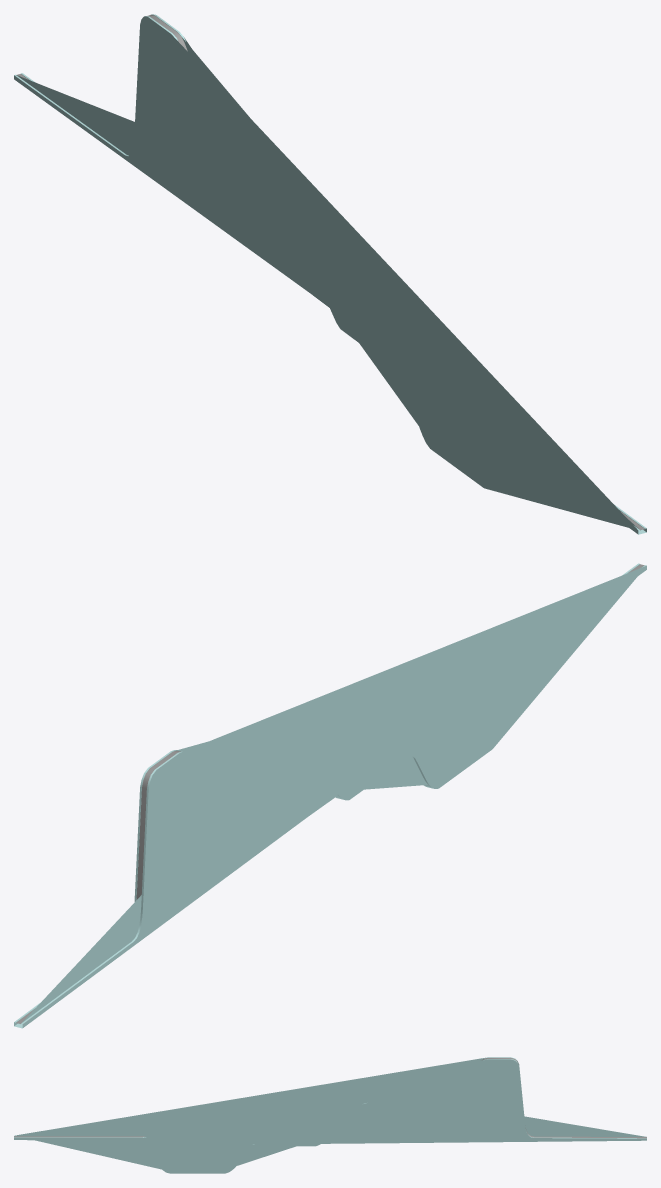
The model's file is road3.fbx.
The picture shows the model from 3 angles, top to bottom: view 1: azimuth 30°, elevation 25°; view 2: azimuth 150°, elevation 25°; view 3: azimuth 270°, elevation 25°; orthographic projection. The views are drawn at different scales.
Visible parts, largest first — view 1: Cube.029; view 2: Cube.029; view 3: Cube.029.
Part boxes in pixels (x1,y1,x2,y2): Cube.029: (14, 14, 646, 534); Cube.029: (14, 563, 646, 1028); Cube.029: (14, 1057, 646, 1173).
Bounding box in the file's own units: 221 × 5517 × 27713.
